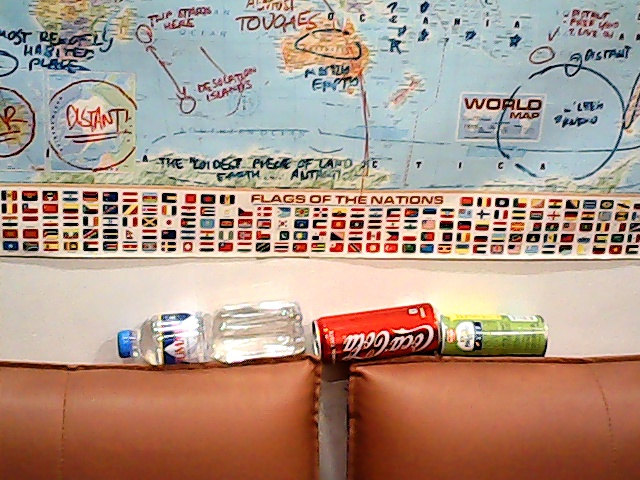Cola: (306, 298, 443, 369)
Pine Juice: (434, 307, 548, 356)
Summit Water: (112, 299, 306, 371)
